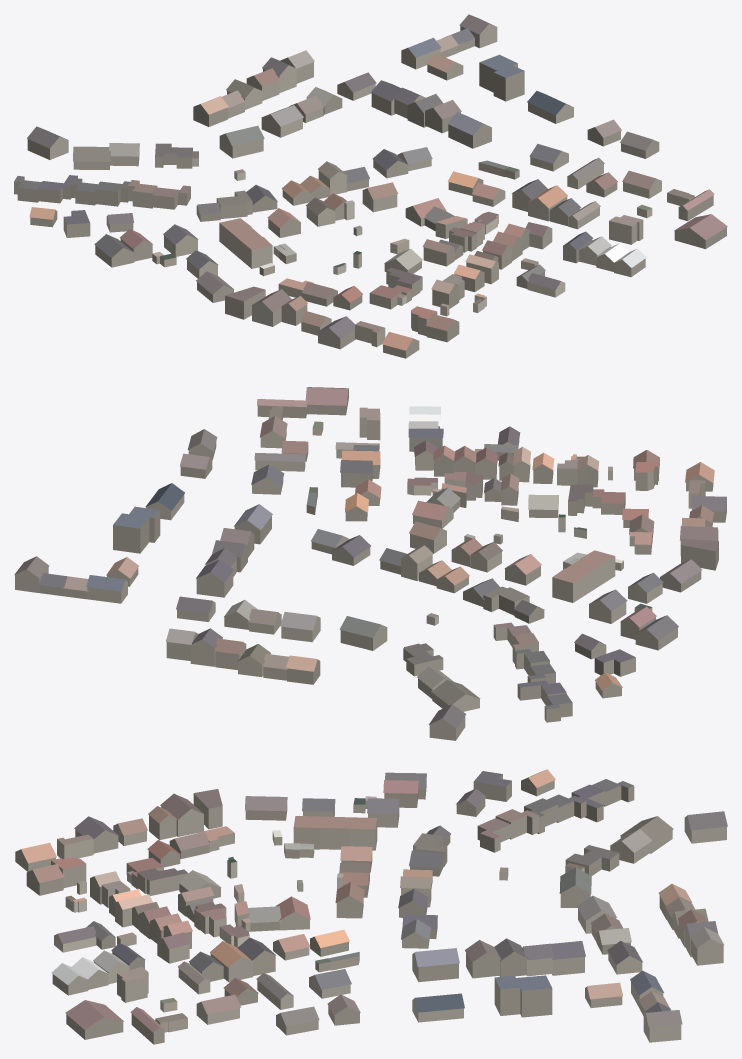
3 renders of one model, top to bottom at view 1: azimuth 30°, elevation 25°; view 2: azimuth 150°, elevation 25°; view 3: azimuth 270°, elevation 25°, orthographic. The views are drawn at different scales.
Parts seen in each view (by area): view 1: tuile; view 2: tuile; view 3: tuile.
Boxes of the visible parts, x1=… form: tuile: x1=14, y1=14, x2=727, y2=358; tuile: x1=14, y1=387, x2=726, y2=740; tuile: x1=15, y1=769, x2=727, y2=1044.
Size of the model in its own units: 253 by 24.58 by 266.
